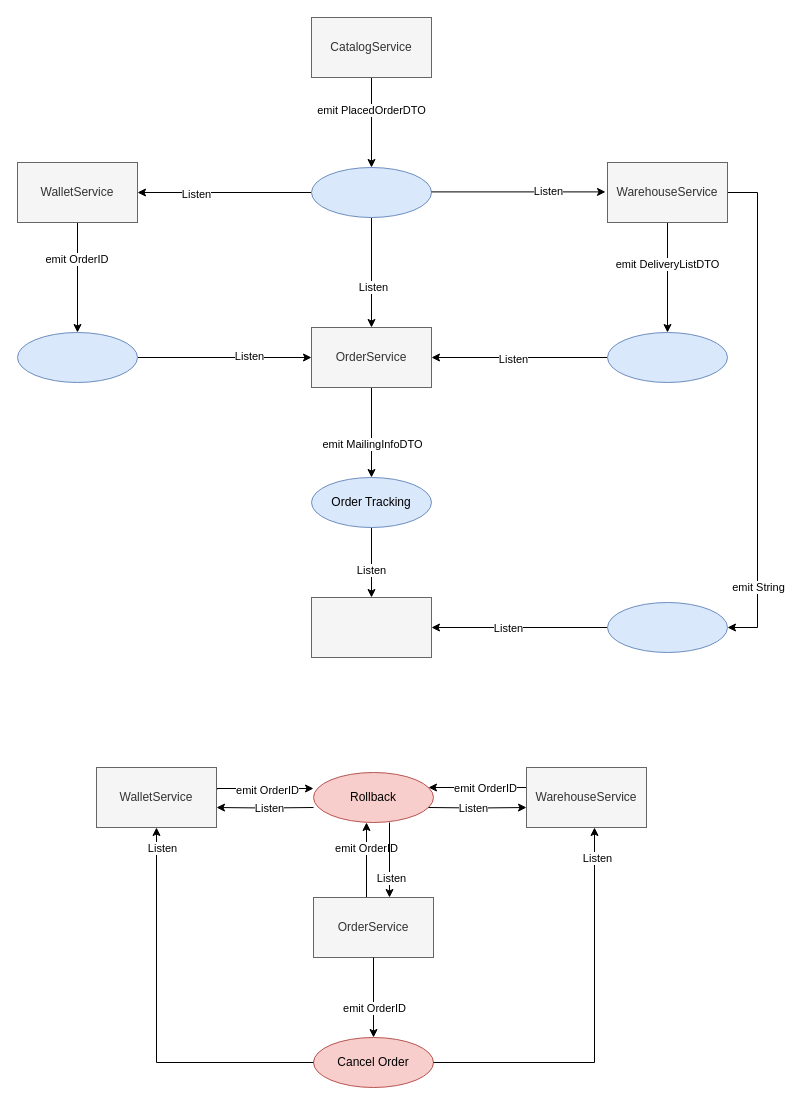
Some shapes in this 802 by 1105 pixel diagram are drawn without their labels. The shapes that lost their labels are listed below. From the top down, each one's centre as x and y in pixels, then its label:
At (x=371, y=192): "Create Order".
At (x=77, y=357): "Wallet OK".
At (x=667, y=357): "Products OK".
At (x=371, y=627): "MailingService".
At (x=667, y=627): "Alarm Level".
